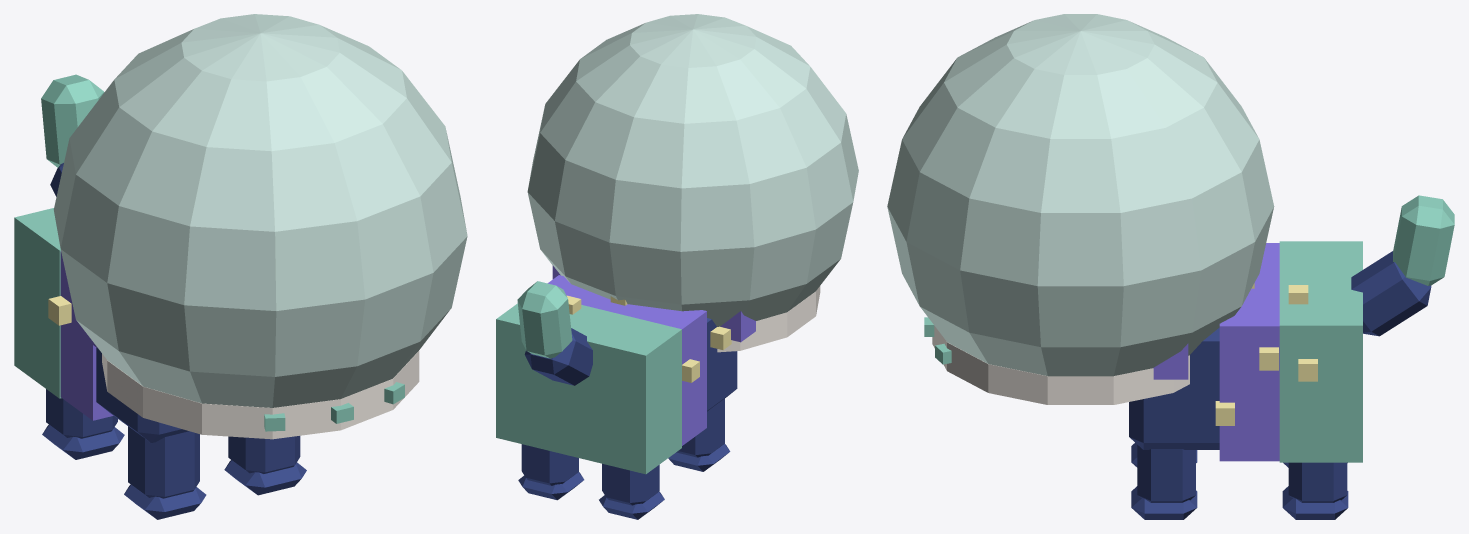
Rendered from CatCafe_Cat_Aurora.glb.
3 renders of one model, left to right at view 1: azimuth 30°, elevation 25°; view 2: azimuth 150°, elevation 25°; view 3: azimuth 270°, elevation 25°, orthographic. The views are drawn at different scales.
Visible parts, largest first — view 1: CatCafe_Cat_Aurora_Prop_Glass, CatCafe_Cat_Aurora_Body, CatCafe_Cat_Aurora_Prop, CatCafe_Cat_Aurora_LegF2, CatCafe_Cat_Aurora_LegF1, CatCafe_Cat_Aurora_Tail, CatCafe_Cat_Aurora_LegB2; view 2: CatCafe_Cat_Aurora_Prop_Glass, CatCafe_Cat_Aurora_Body, CatCafe_Cat_Aurora_Tail, CatCafe_Cat_Aurora_LegB2, CatCafe_Cat_Aurora_LegB1, CatCafe_Cat_Aurora_LegF2, CatCafe_Cat_Aurora_Prop, CatCafe_Cat_Aurora_Head; view 3: CatCafe_Cat_Aurora_Prop_Glass, CatCafe_Cat_Aurora_Body, CatCafe_Cat_Aurora_Tail, CatCafe_Cat_Aurora_Prop, CatCafe_Cat_Aurora_LegF1, CatCafe_Cat_Aurora_LegB1, CatCafe_Cat_Aurora_Head.
Boxes of the visible parts, bbox=[...] form: CatCafe_Cat_Aurora_Prop_Glass: bbox=[53, 14, 467, 407]; CatCafe_Cat_Aurora_Body: bbox=[14, 208, 188, 443]; CatCafe_Cat_Aurora_Prop: bbox=[102, 350, 419, 439]; CatCafe_Cat_Aurora_LegF2: bbox=[124, 426, 206, 519]; CatCafe_Cat_Aurora_LegF1: bbox=[224, 436, 306, 495]; CatCafe_Cat_Aurora_Tail: bbox=[41, 74, 104, 196]; CatCafe_Cat_Aurora_LegB2: bbox=[42, 389, 124, 459]; CatCafe_Cat_Aurora_Prop_Glass: bbox=[527, 14, 858, 326]; CatCafe_Cat_Aurora_Body: bbox=[496, 275, 737, 474]; CatCafe_Cat_Aurora_Tail: bbox=[517, 281, 592, 385]; CatCafe_Cat_Aurora_LegB2: bbox=[599, 463, 664, 519]; CatCafe_Cat_Aurora_LegB1: bbox=[518, 444, 584, 500]; CatCafe_Cat_Aurora_LegF2: bbox=[668, 398, 730, 471]; CatCafe_Cat_Aurora_Prop: bbox=[717, 286, 820, 352]; CatCafe_Cat_Aurora_Head: bbox=[552, 265, 755, 342]; CatCafe_Cat_Aurora_Prop_Glass: bbox=[887, 14, 1274, 376]; CatCafe_Cat_Aurora_Body: bbox=[1129, 241, 1362, 462]; CatCafe_Cat_Aurora_Tail: bbox=[1351, 195, 1454, 336]; CatCafe_Cat_Aurora_Prop: bbox=[924, 317, 1189, 404]; CatCafe_Cat_Aurora_LegF1: bbox=[1131, 445, 1197, 519]; CatCafe_Cat_Aurora_LegB1: bbox=[1282, 462, 1348, 519]; CatCafe_Cat_Aurora_Head: bbox=[1153, 343, 1188, 379].
Size of the model in its own units: 1.55 by 2.07 by 2.33.
Materials: 1 (1 with a texture image).
